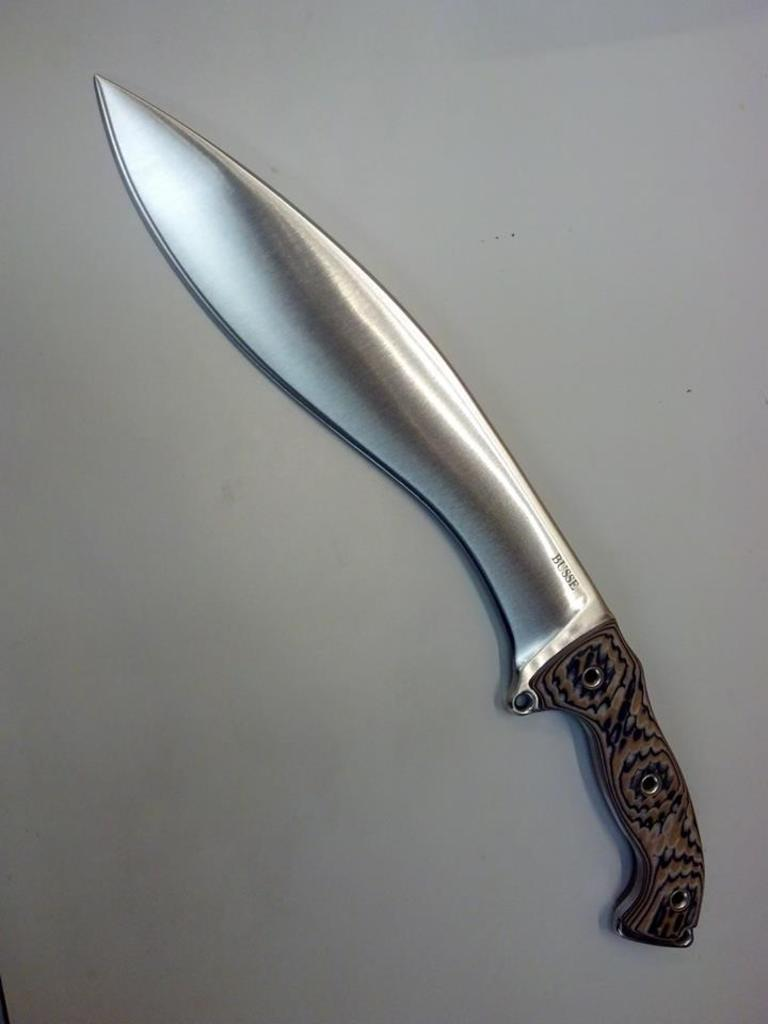Knife: (95, 68, 713, 945)
